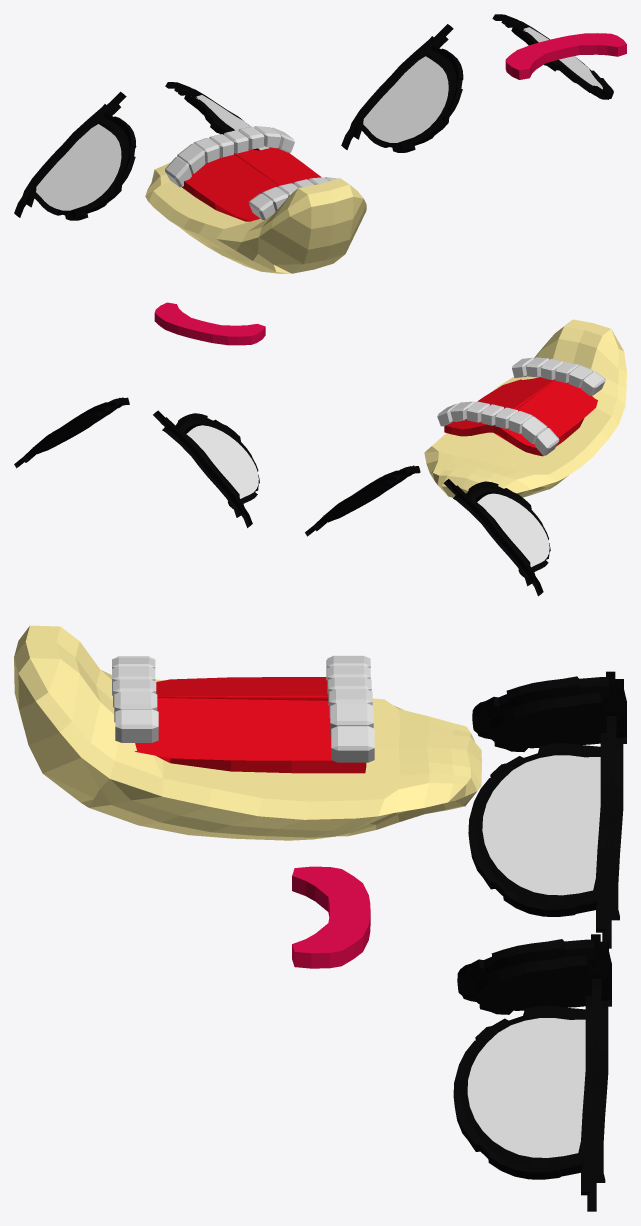
The model's file is new_smile_newcharater2_tsukkomi.fbx.
The picture shows the model from 3 angles, top to bottom: view 1: azimuth 30°, elevation 25°; view 2: azimuth 150°, elevation 25°; view 3: azimuth 270°, elevation 25°; orthographic projection. The views are drawn at different scales.
Parts seen in each view (by area): view 1: Plane.006, Circle.002, Circle, annguri_mouse, teeth_2, Plane, teeth; view 2: Plane.006, Circle, Circle.002, annguri_mouse, teeth_2, Plane, teeth; view 3: Plane.006, Circle.002, Circle, annguri_mouse, Plane, teeth_2, teeth.
Part boxes in pixels (x1,y1,x2,y2): Plane.006: [145, 163, 366, 273]; Circle.002: [341, 14, 613, 152]; Circle: [14, 82, 270, 220]; annguri_mouse: [182, 147, 321, 221]; teeth_2: [165, 126, 294, 187]; Plane: [505, 33, 626, 79]; teeth: [248, 177, 337, 219]; Plane.006: [424, 319, 626, 497]; Circle: [305, 465, 550, 596]; Circle.002: [14, 397, 259, 527]; annguri_mouse: [444, 377, 597, 456]; teeth_2: [437, 401, 559, 455]; Plane: [154, 302, 265, 345]; teeth: [512, 357, 605, 395]; Plane.006: [14, 625, 481, 840]; Circle.002: [453, 934, 611, 1211]; Circle: [468, 671, 626, 948]; annguri_mouse: [134, 677, 366, 773]; Plane: [292, 866, 370, 968]; teeth_2: [326, 655, 374, 762]; teeth: [112, 656, 158, 742].
Bounding box in the file's own units: 346 × 78.72 × 198.
